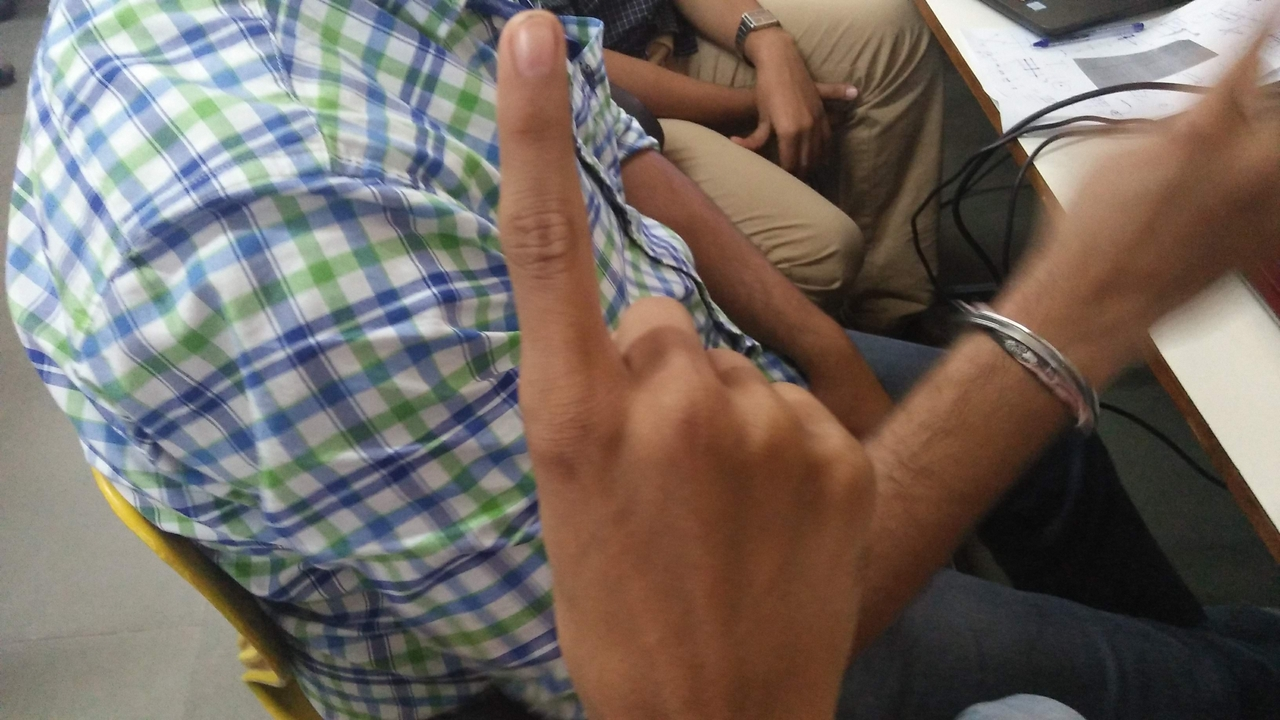fingertip: (496, 6, 568, 78)
